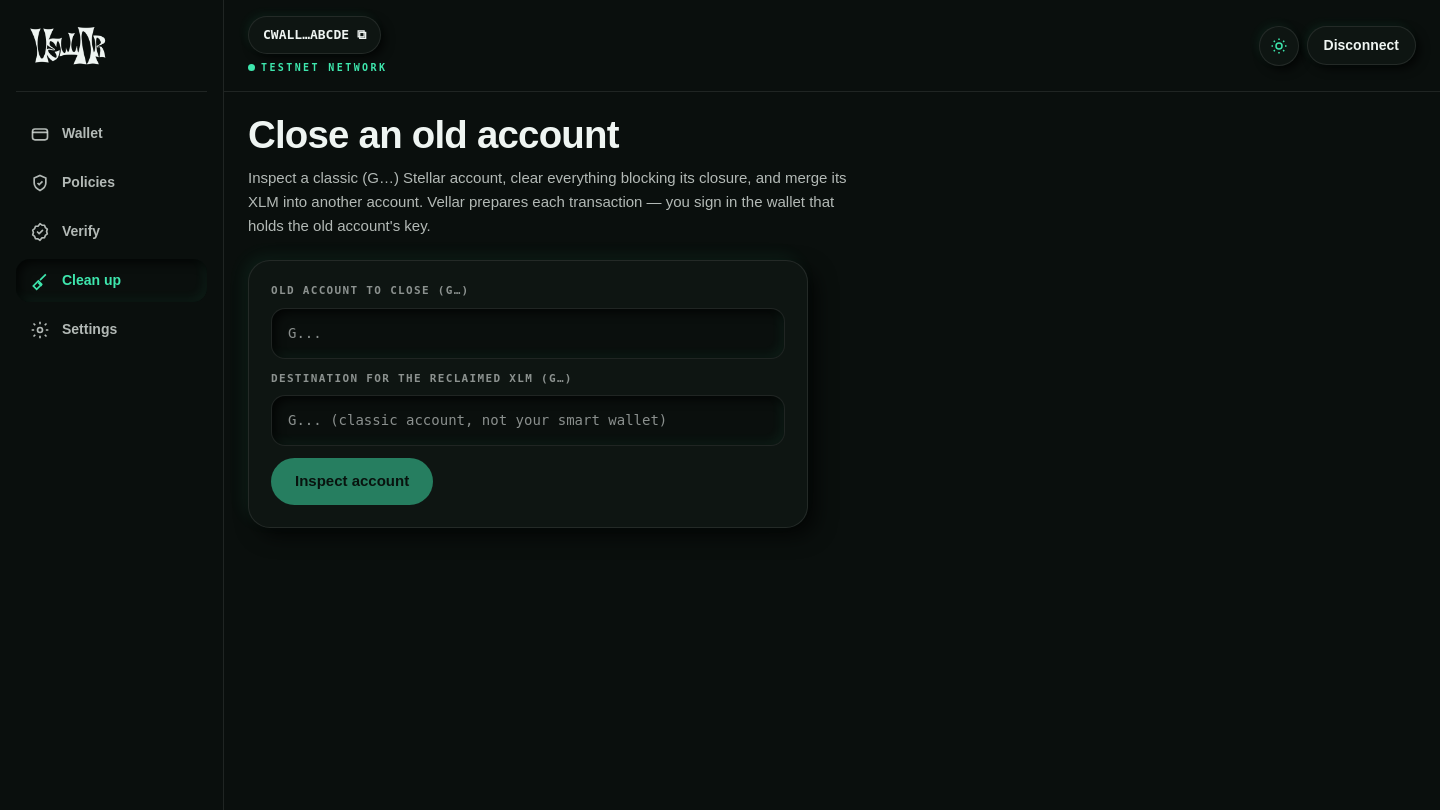
Scenario: Cleanup wizard › surfaces API errors
Type "GCMCEGOUVALP2H6LTY7IPUUMSFKDQUMK3SDU5DI7LETNEZZKHRIIALKM" into the field labelled "Old account to close (G…)" at {"x": 528, "y": 333}, box [271,308,785,359]
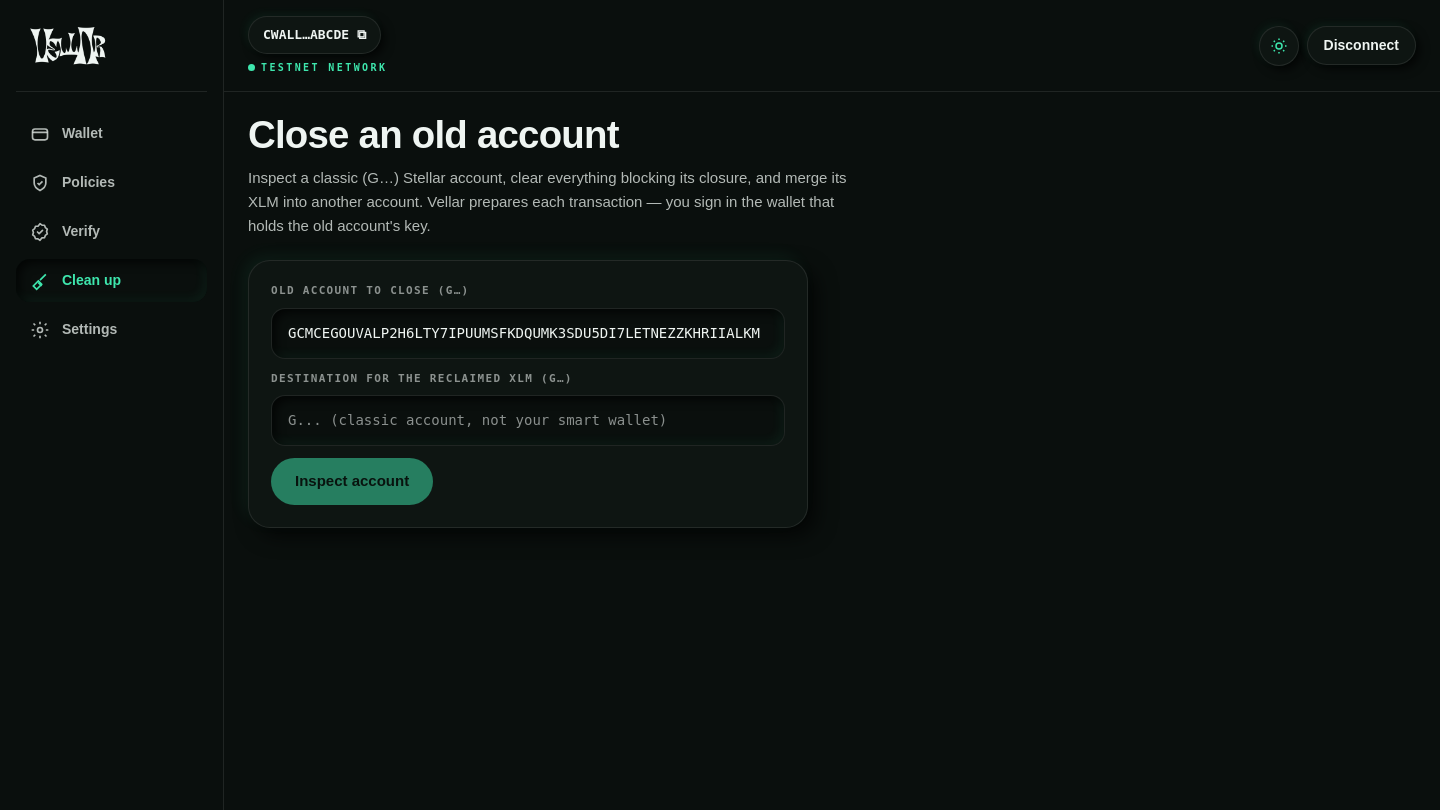
Type "GDQNY3PBOJOKYZSRMK2S7LHHGWZIUISD4QORETLMXEWXBI7KFZZMKTL3" into the field labelled "Destination for the reclaimed XLM (G…)" at {"x": 528, "y": 421}, box [271,395,785,446]
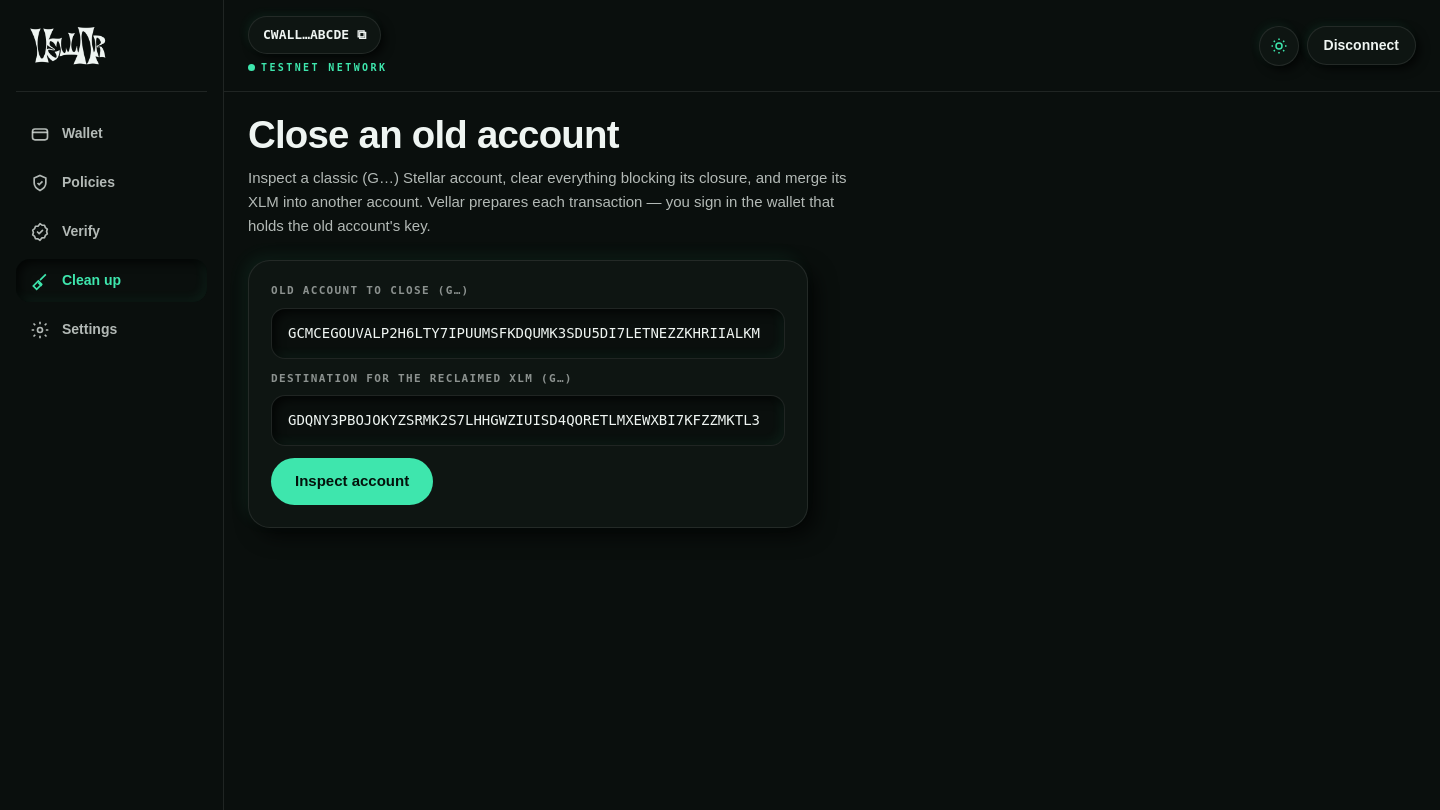
Click the button "Inspect account" at {"x": 352, "y": 482}, box [271,458,433,505]
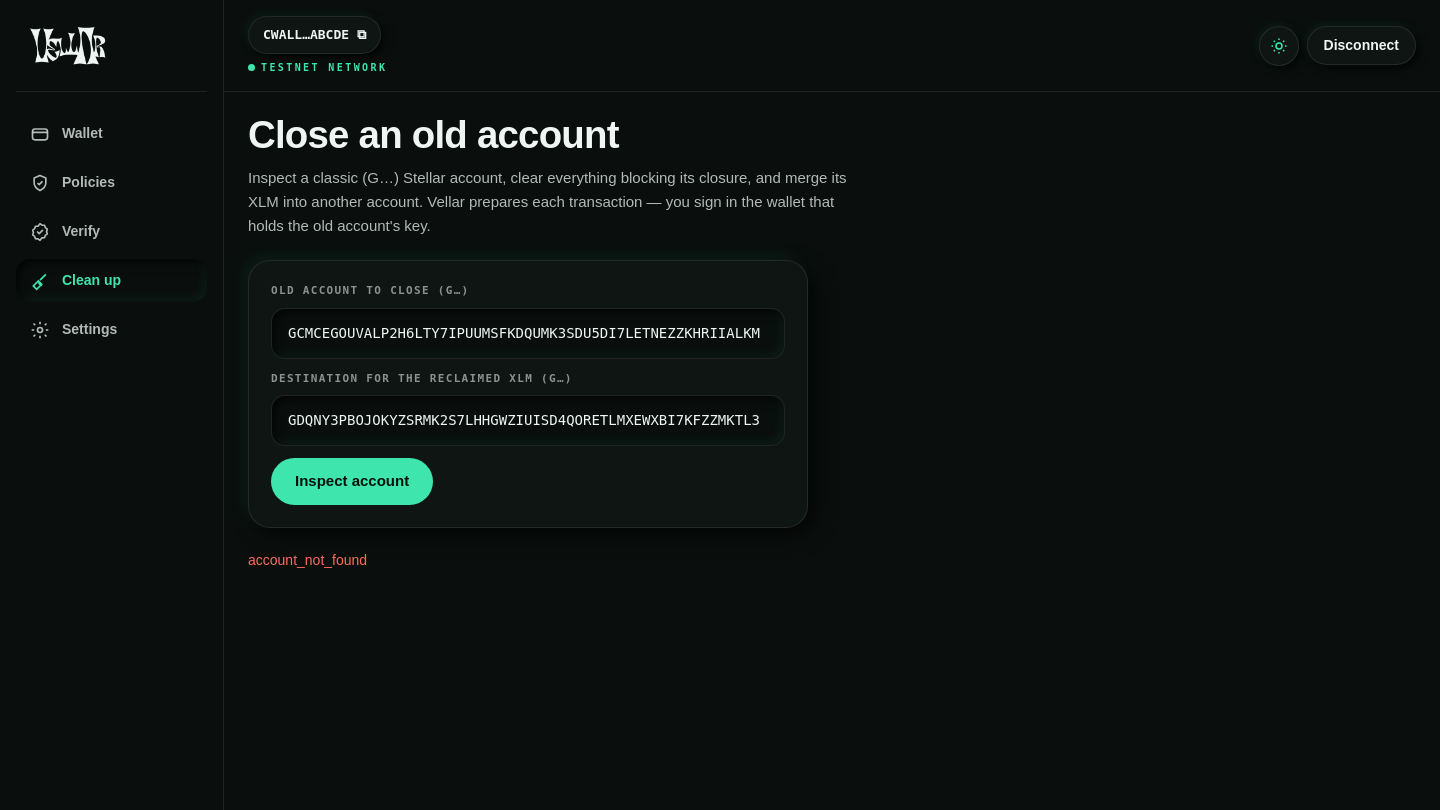
Result: the message reads "account_not_found" at [248,552,367,568]
